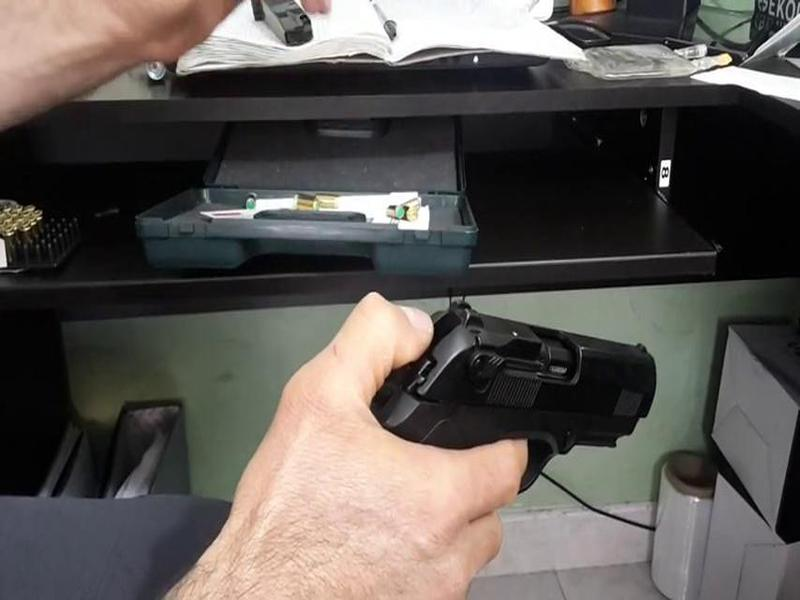Pistola: (339, 289, 691, 510)
